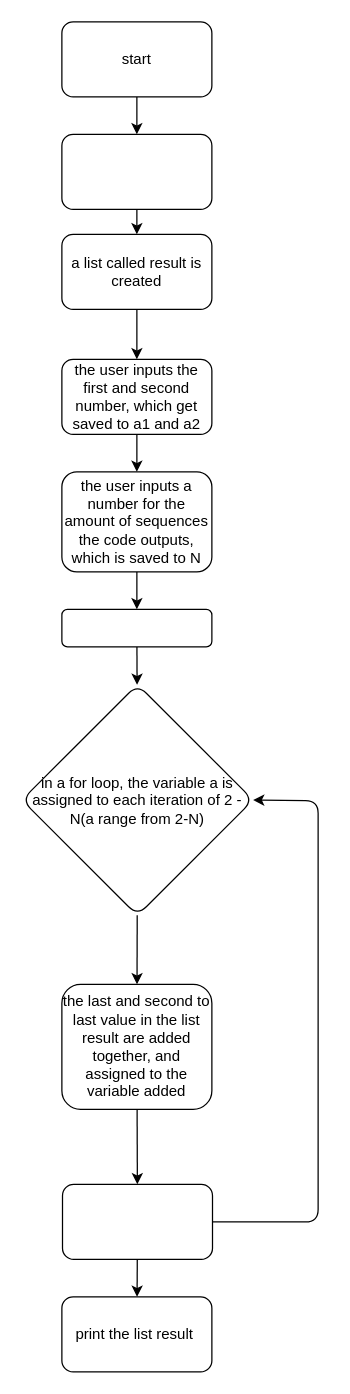
Image size: 350x1394. Some labels were removed from this diagram. The shapes that lost their labels are listed below. From the top down, each one's box as (x1, y1, x2, y2) in pixels, then its label:
(61, 133, 212, 209): create
(61, 608, 212, 647): both a1 and a2 are added to the list result
(61, 1183, 212, 1259): the value of added is then added to the list result
